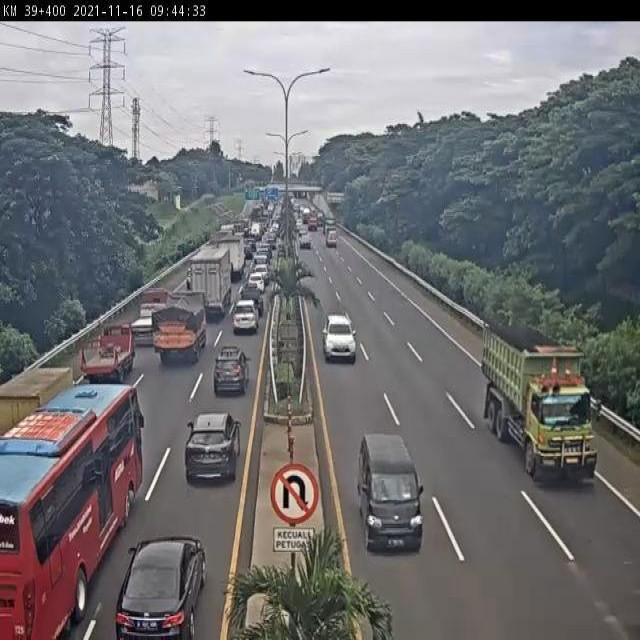big bus: (0, 371, 153, 638)
car: (116, 520, 211, 640), (358, 424, 431, 563), (185, 405, 240, 491), (322, 309, 358, 371), (211, 340, 248, 400), (229, 295, 263, 337)
truck-l-: (485, 317, 607, 495), (188, 245, 238, 318)
truck-m-: (0, 361, 76, 460), (148, 289, 202, 359), (82, 323, 130, 381), (129, 283, 167, 344)
